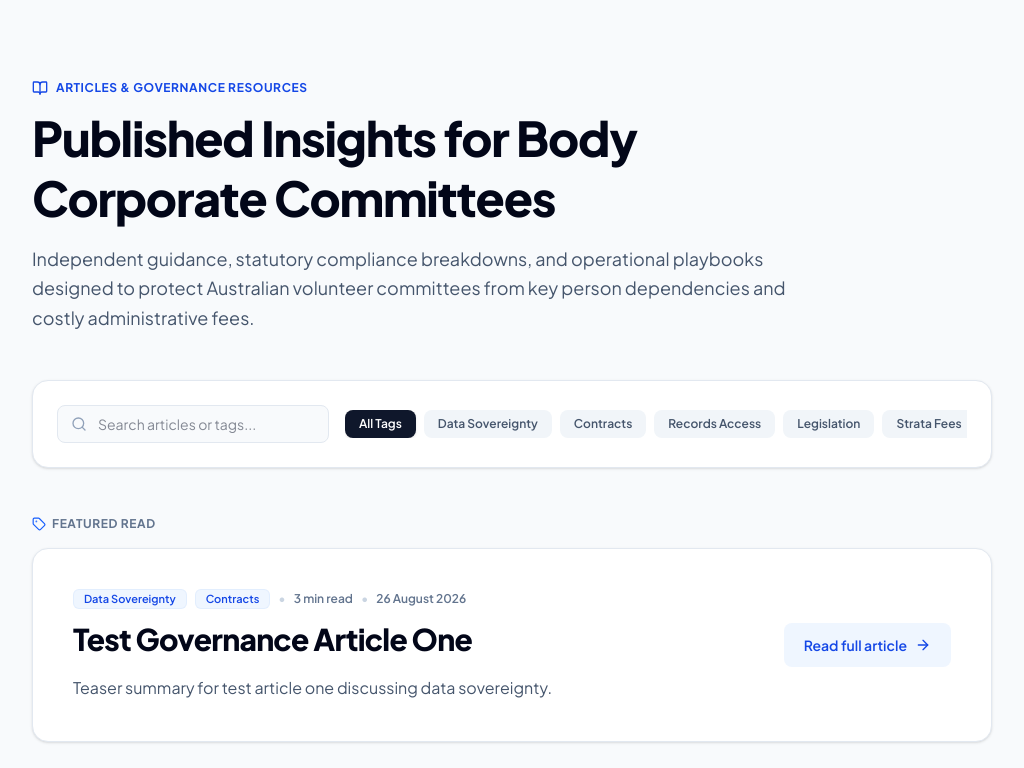
Test case: ArticlesPage Component › Suite 2: Keyword Search & Empty State › filters articles based on search query in title and teaser
Type "Search Fees" into the field with placeholder "Search articles or tags...".
click(193, 424); type("Search Fees")  # box [57, 405, 329, 443]
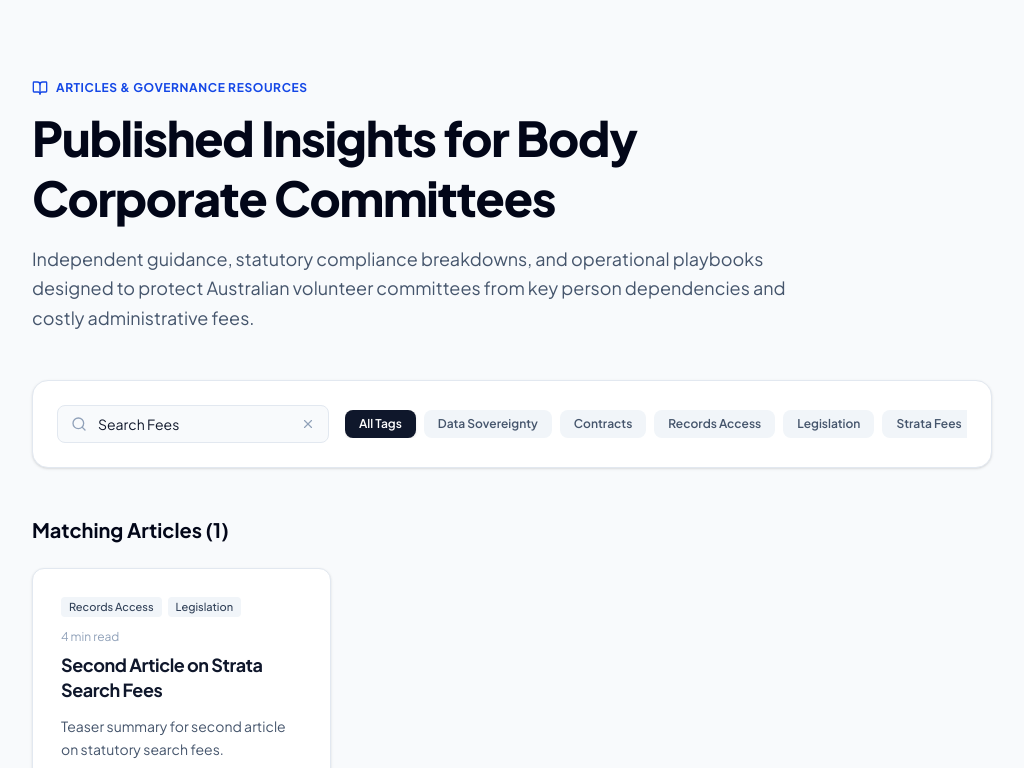
Expected: the heading "Second Article on Strata Search Fees" is shown, [61, 653, 262, 701]
Now the heading "Matching Articles (1)" is shown, box [32, 516, 229, 544]
